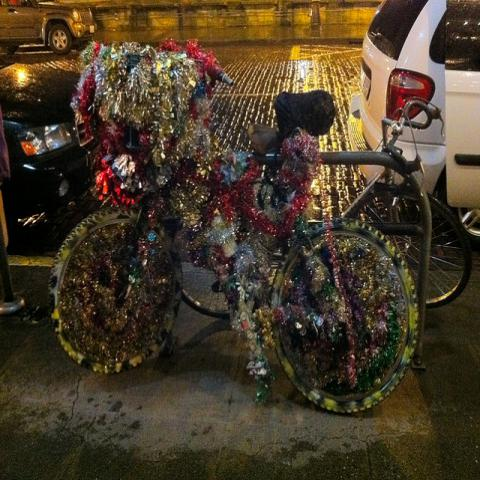car: (348, 1, 479, 251), (0, 45, 98, 246)
truck: (0, 0, 98, 60)
